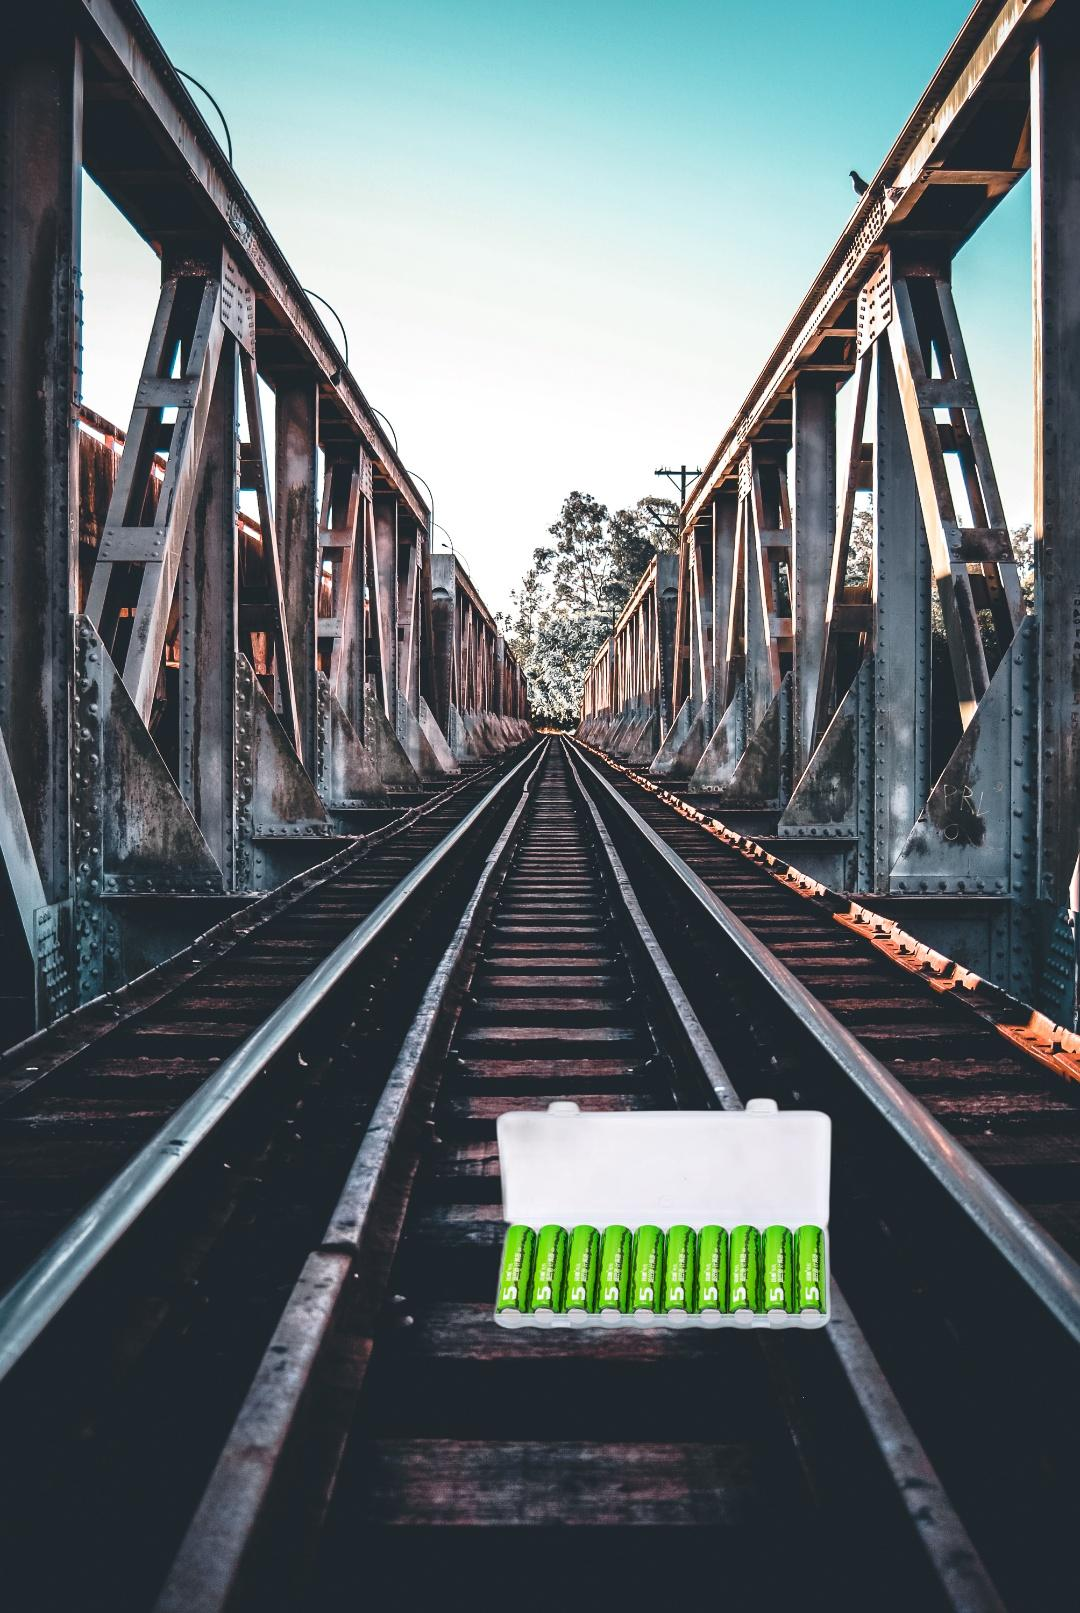battery: (489, 1093, 837, 1333)
